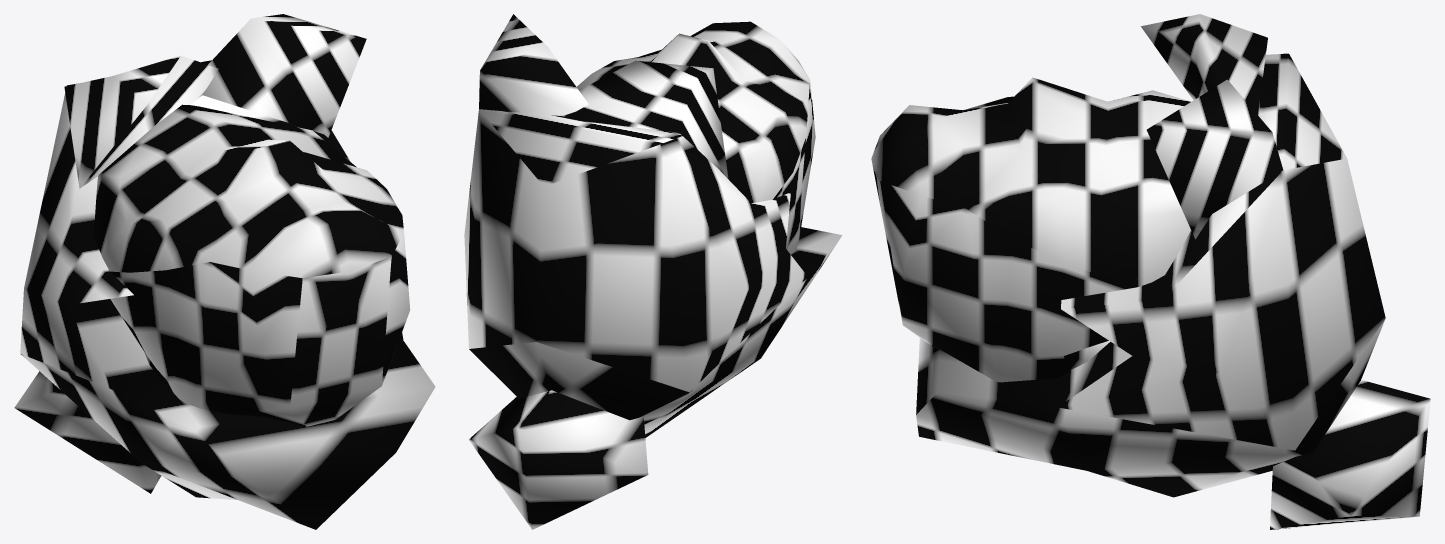
File: infaunhufefa3.dae
3 renders of one model, left to right at view 1: azimuth 30°, elevation 25°; view 2: azimuth 150°, elevation 25°; view 3: azimuth 270°, elevation 25°, orthographic. The views are drawn at different scales.
Parts seen in each view (by area): view 1: face; view 2: face; view 3: face.
Part boxes in pixels (left/top/right/bottom): face: left=14, top=14, right=435, bottom=529; face: left=464, top=14, right=842, bottom=529; face: left=871, top=14, right=1430, bottom=529.
Bounding box in the file's own units: 1.16 × 1.68 × 1.63.
Materials: 1 (1 with a texture image).
